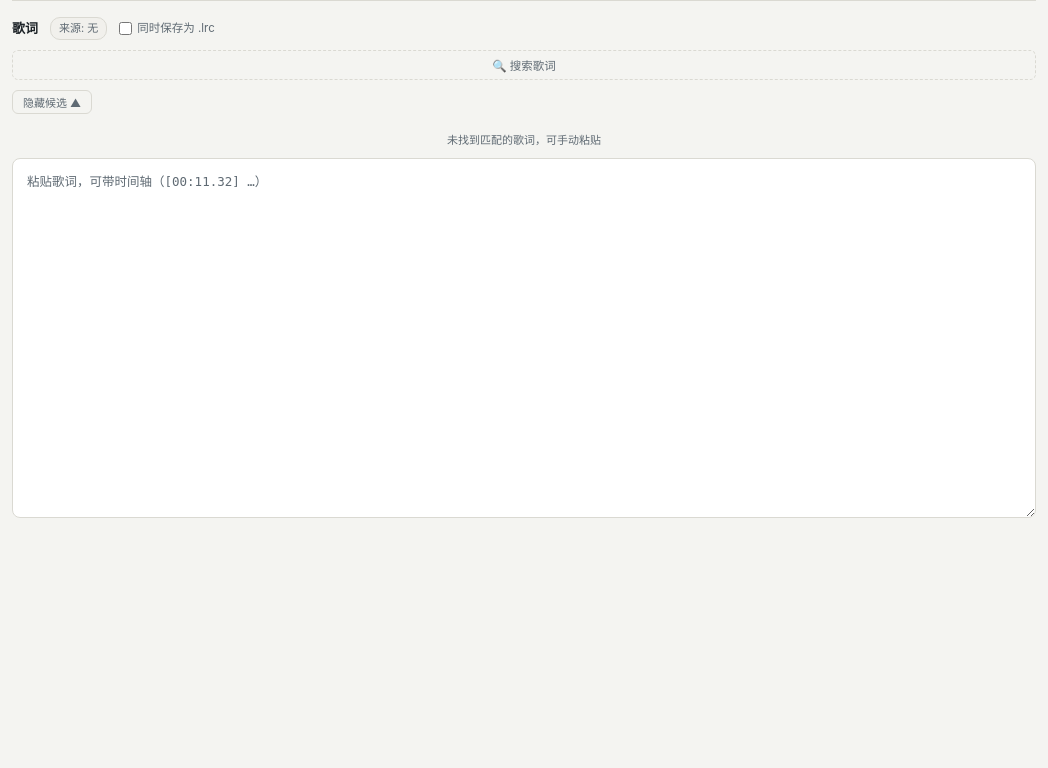
Test: LyricPanel — 歌词候选区（v1-search-ui D8：status/列表/空态/离线） › 手动搜索清 lyricFetchEmpty（CR）：新搜索后旧 C2 空态不遮蔽新候选
This screenshot has width=1048, height=768.
Click the button with class "search-trigger" at [524, 64], box [12,50,1036,80]
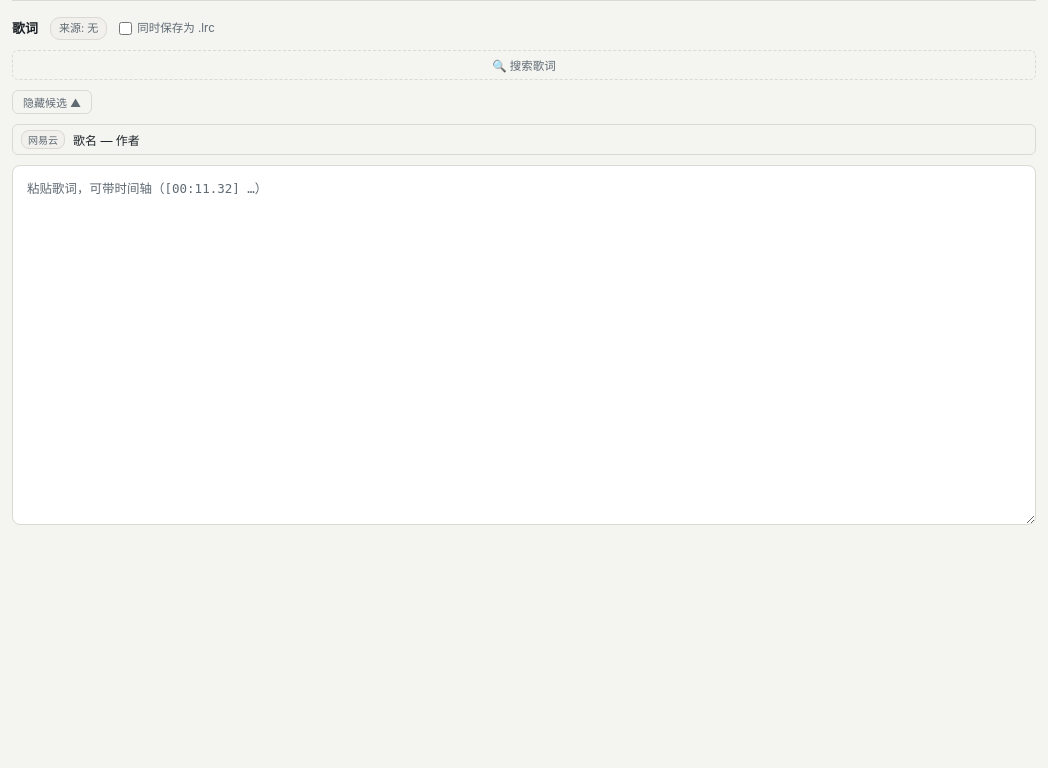
Check: the element with class "cand-list" is shown, box [12,124,1036,154]
